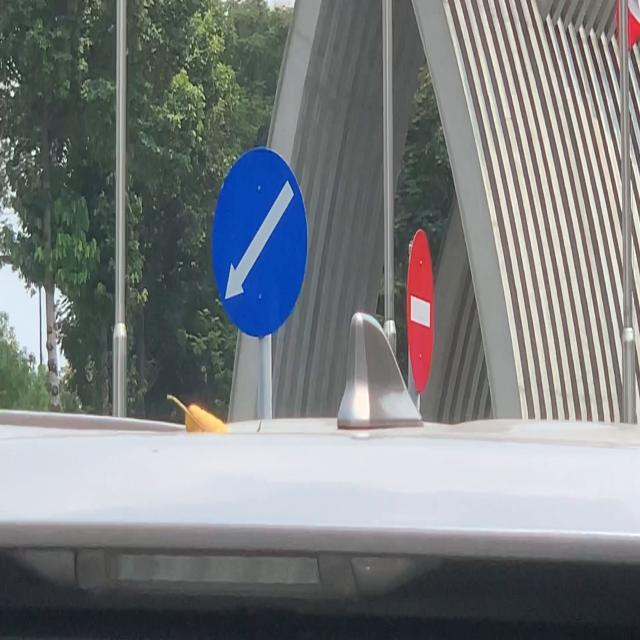Hieu lenh: (208, 150, 308, 338)
